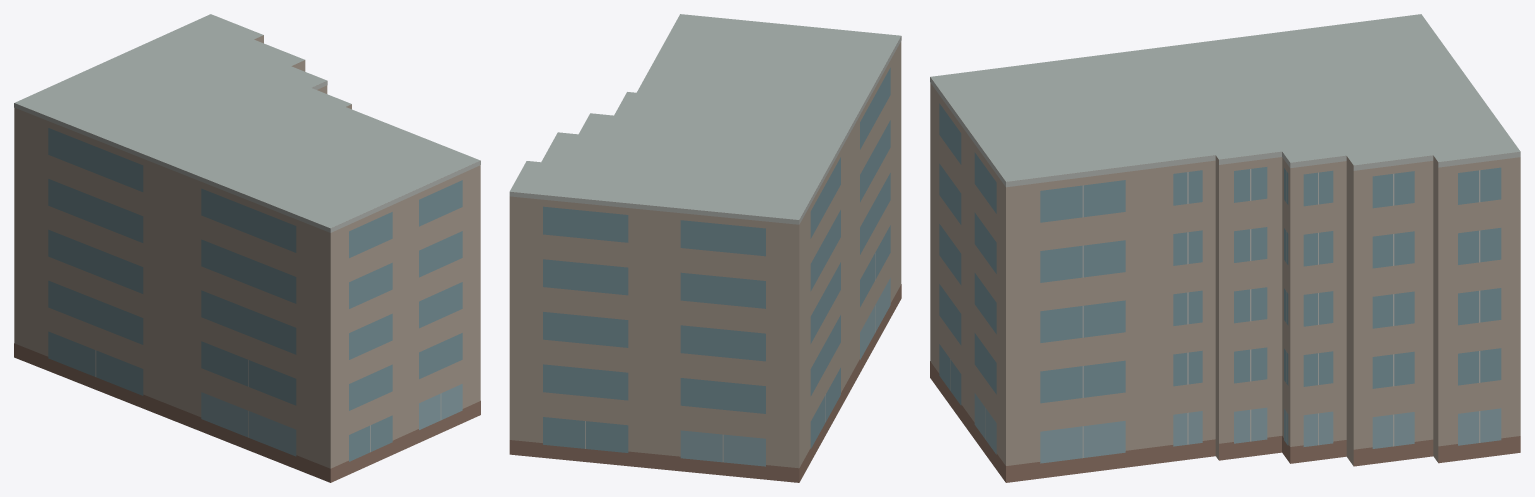
Rendered from survey-upis-32984319.glb.
3 renders of one model, left to right at view 1: azimuth 30°, elevation 25°; view 2: azimuth 150°, elevation 25°; view 3: azimuth 270°, elevation 25°, orthographic. The views are drawn at different scales.
Parts seen in each view (by area): view 1: survey-upis-32984319.tmp; view 2: survey-upis-32984319.tmp; view 3: survey-upis-32984319.tmp.
Part boxes in pixels (x1,y1,x2,y2): survey-upis-32984319.tmp: [14, 14, 480, 482]; survey-upis-32984319.tmp: [509, 14, 901, 482]; survey-upis-32984319.tmp: [930, 14, 1520, 482].
Bounding box in the file's own units: 16.28 × 13.6 × 24.19.
